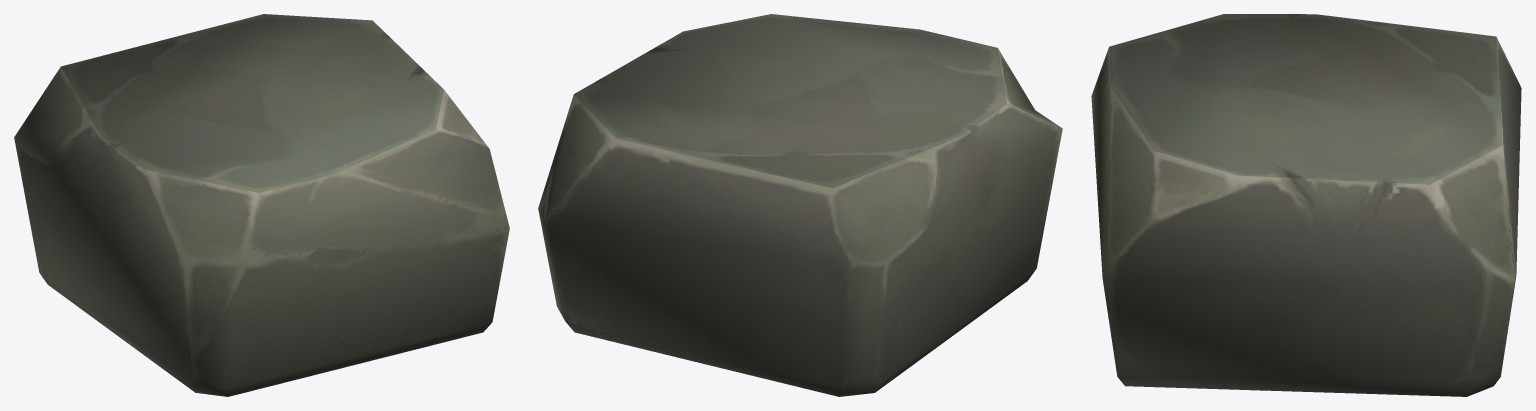
File: yw_shanlin_stones_010.FBX
3 renders of one model, left to right at view 1: azimuth 30°, elevation 25°; view 2: azimuth 150°, elevation 25°; view 3: azimuth 270°, elevation 25°, orthographic. The views are drawn at different scales.
Parts seen in each view (by area): view 1: yw_shanlin_stones_010; view 2: yw_shanlin_stones_010; view 3: yw_shanlin_stones_010.
Part boxes in pixels (x1,y1,x2,y2): yw_shanlin_stones_010: [14, 14, 509, 396]; yw_shanlin_stones_010: [538, 14, 1062, 396]; yw_shanlin_stones_010: [1091, 14, 1521, 396].
Bounding box in the file's own units: 76.2 × 77.45 × 43.23.
